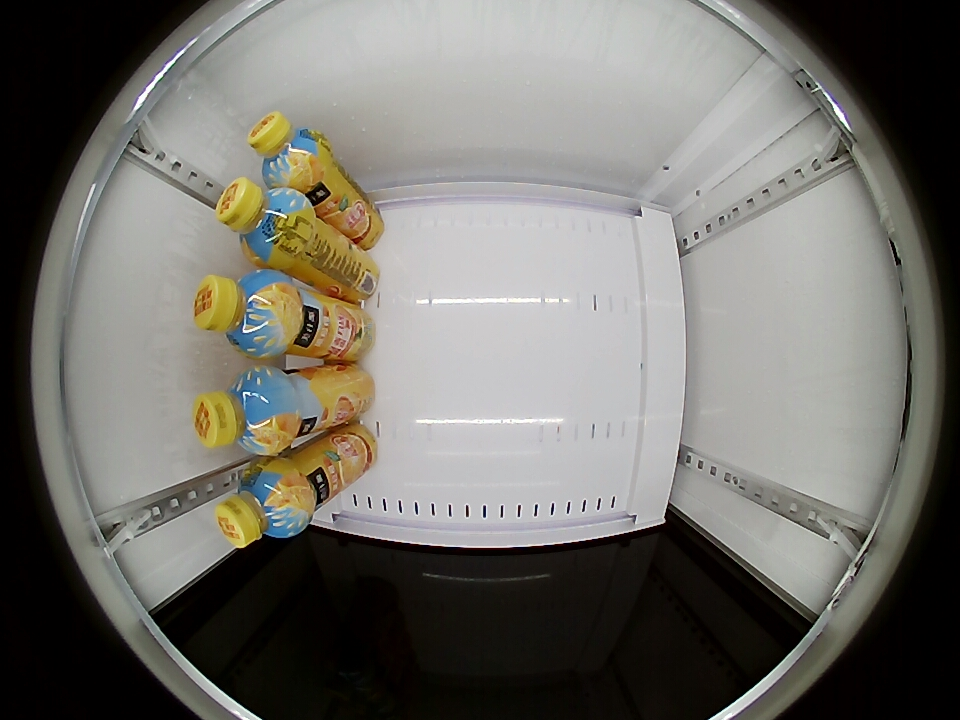guolicheng: (193, 270, 299, 359), (193, 365, 295, 456), (215, 178, 309, 266), (216, 459, 310, 547), (248, 112, 328, 189)
